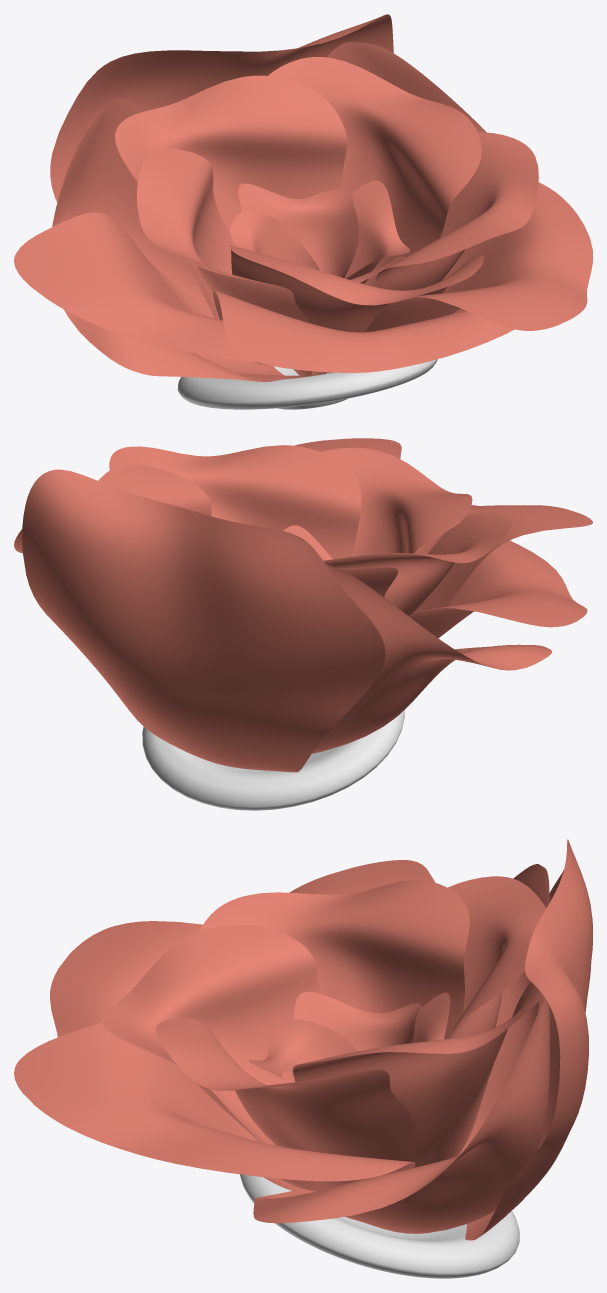
The model's file is rose.glb.
3 views of the same model, one above another, from view 1: azimuth 30°, elevation 25°; view 2: azimuth 150°, elevation 25°; view 3: azimuth 270°, elevation 25° (orthographic). The views are drawn at different scales.
Parts seen in each view (by area): view 1: ROSE HEAD v26, ROSE HEAD v26.001; view 2: ROSE HEAD v26, ROSE HEAD v26.001; view 3: ROSE HEAD v26, ROSE HEAD v26.001.
Boxes of the visible parts, x1,y1,x2,y2 form: ROSE HEAD v26: [14, 14, 592, 381]; ROSE HEAD v26.001: [177, 359, 437, 409]; ROSE HEAD v26: [14, 438, 592, 772]; ROSE HEAD v26.001: [142, 710, 404, 810]; ROSE HEAD v26: [14, 839, 592, 1240]; ROSE HEAD v26.001: [240, 1174, 519, 1278].
Size of the model in its own units: 1.12 by 0.6331 by 0.9582.
